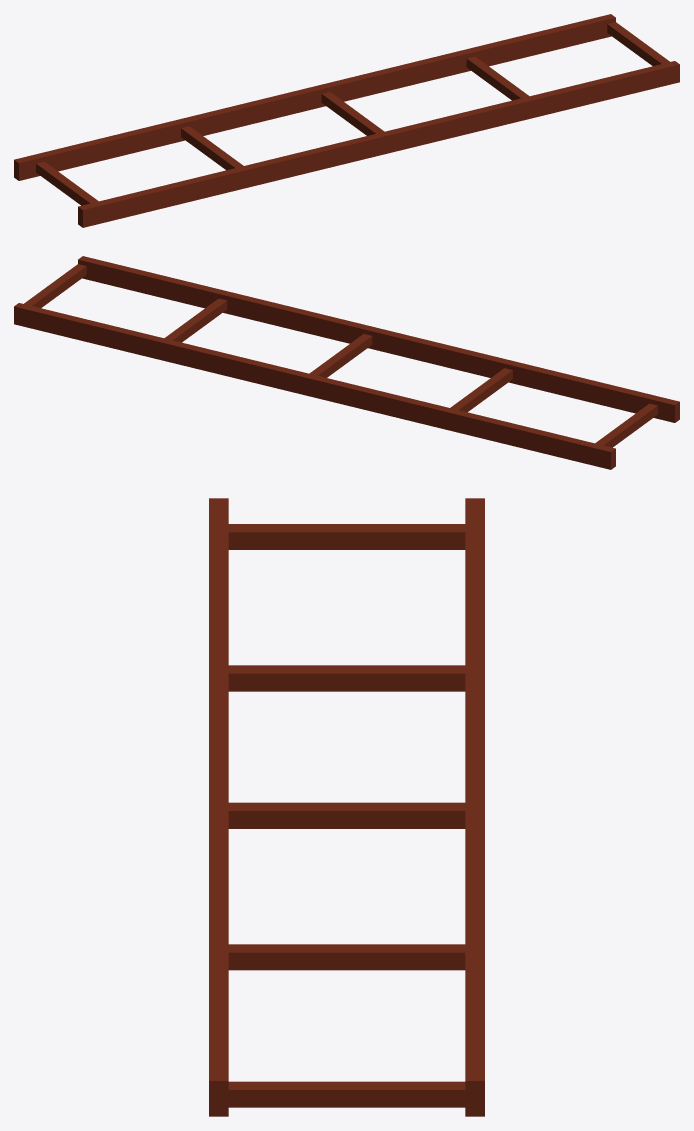
File: abandoned_pickup_frame.glb
3 renders of one model, top to bottom at view 1: azimuth 30°, elevation 25°; view 2: azimuth 150°, elevation 25°; view 3: azimuth 270°, elevation 25°, orthographic. The views are drawn at different scales.
Visible parts, largest first — view 1: body:compound; view 2: body:compound; view 3: body:compound.
Boxes of the visible parts, bbox=[...] form: body:compound: bbox=[14, 14, 679, 227]; body:compound: bbox=[14, 256, 679, 469]; body:compound: bbox=[209, 498, 484, 1116].
Size of the model in its own units: 4.38 by 0.125 by 0.875.
